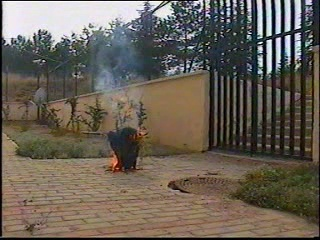smoke: (96, 28, 146, 121)
